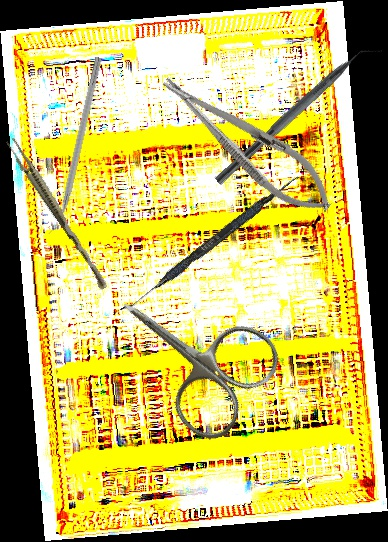Chopper: (214, 34, 384, 196), (44, 54, 103, 237)
Iris Scissors: (87, 255, 290, 450)
Needle Holder: (150, 59, 345, 228)
Spatula Surgical: (120, 169, 301, 319)
Tissue Forceps: (2, 136, 114, 291)
